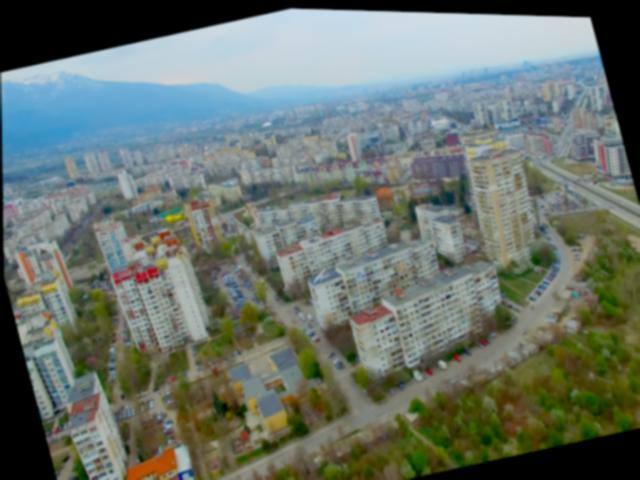plane: (311, 267, 327, 283)
